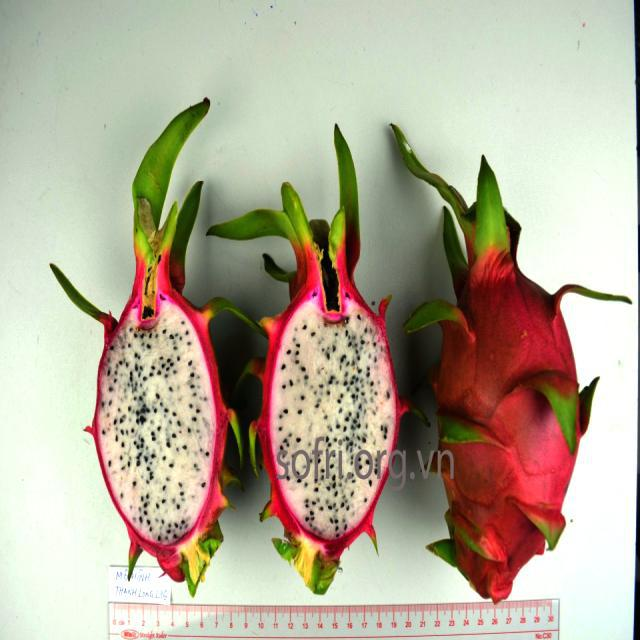trang: (211, 124, 415, 596), (49, 96, 242, 586)
